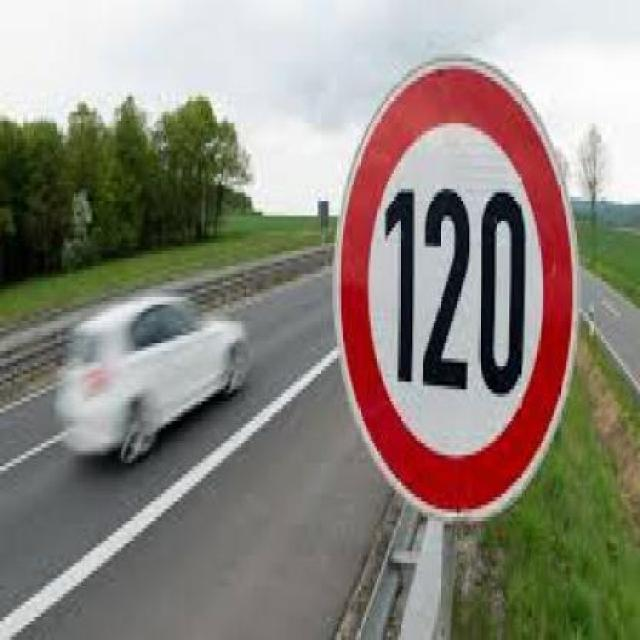forb_speed_over_120: (340, 66, 578, 517)
